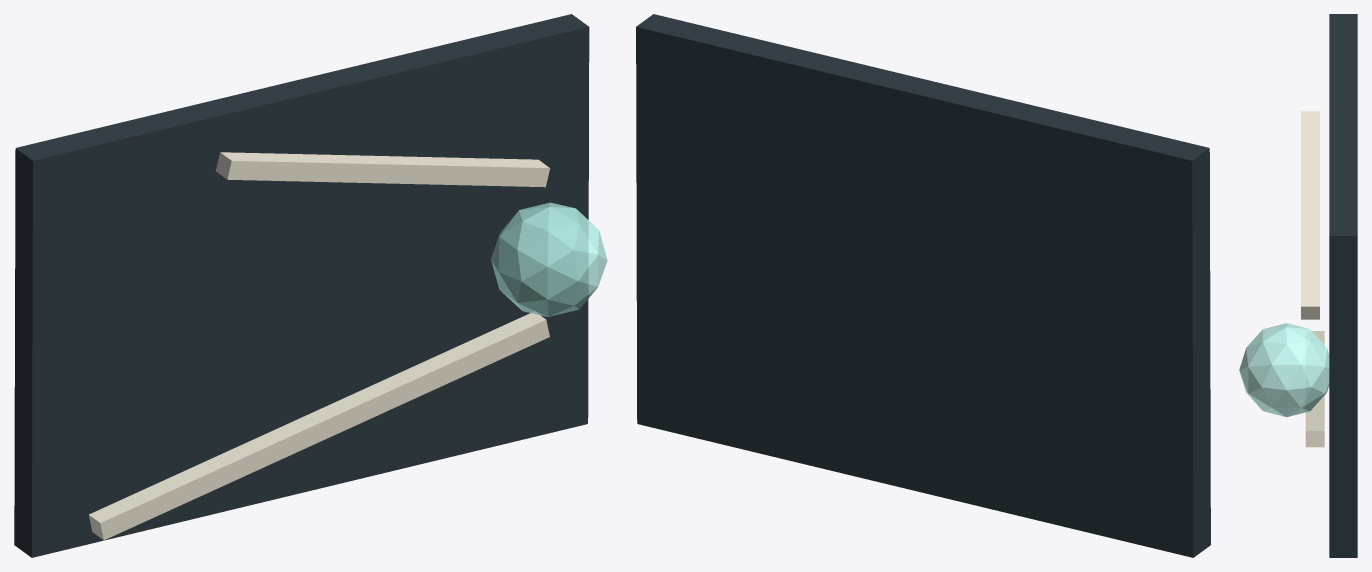
Rendered from 02_world_prop_polish.glb.
3 views of the same model, side by side, from view 1: azimuth 30°, elevation 25°; view 2: azimuth 150°, elevation 25°; view 3: azimuth 270°, elevation 25° (orthographic). The views are drawn at different scales.
Parts seen in each view (by area): view 1: object_overlay_plate, edge_wear_a, glow_socket, edge_wear_b; view 2: object_overlay_plate; view 3: object_overlay_plate, glow_socket, edge_wear_b, edge_wear_a.
Boxes of the visible parts, <box> form: object_overlay_plate: <box>14,14,589,557</box>; edge_wear_a: <box>89,312,549,540</box>; glow_socket: <box>491,202,607,316</box>; edge_wear_b: <box>216,152,549,187</box>; object_overlay_plate: <box>636,14,1210,557</box>; object_overlay_plate: <box>1329,14,1357,557</box>; glow_socket: <box>1239,323,1329,417</box>; edge_wear_b: <box>1301,111,1319,319</box>; edge_wear_a: <box>1305,331,1324,447</box>.
Size of the model in its own units: 1.1 by 0.7532 by 0.25.
